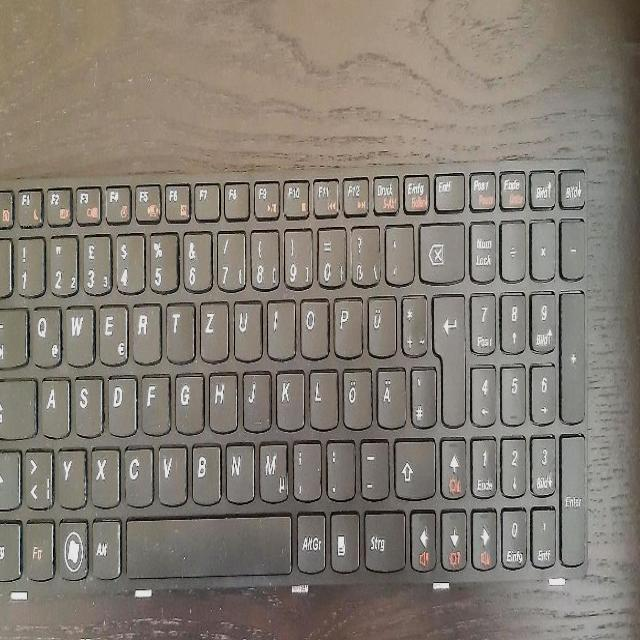0: (315, 222, 345, 285)
1: (15, 232, 43, 294)
2: (47, 230, 77, 292)
3: (80, 229, 110, 291)
4: (114, 227, 144, 289)
5: (147, 227, 177, 289)
6: (181, 226, 211, 288)
7: (215, 226, 245, 288)
8: (248, 225, 278, 287)
9: (281, 223, 311, 285)
a: (39, 372, 68, 434)
accent: (383, 218, 413, 281)
ae: (375, 362, 405, 426)
alt-left: (90, 514, 120, 577)
altgr-right: (295, 507, 325, 570)
b: (190, 438, 220, 501)
c: (122, 441, 152, 503)
caret: (0, 234, 11, 295)
comma: (290, 436, 320, 498)
d: (106, 370, 135, 433)
del: (416, 218, 464, 281)
e: (97, 300, 127, 362)
enter: (430, 287, 464, 423)
f: (139, 369, 168, 430)
g: (172, 368, 202, 430)
h: (206, 367, 236, 429)
hash: (409, 362, 435, 425)
i: (265, 294, 295, 356)
j: (240, 366, 270, 428)
k: (274, 365, 303, 427)
keyboard: (1, 155, 595, 601)
l: (307, 364, 336, 427)
less: (23, 444, 51, 506)
m: (257, 436, 287, 499)
minus: (358, 435, 388, 496)
n: (223, 437, 253, 499)
o: (298, 293, 328, 356)
oe: (340, 363, 370, 426)
p: (332, 292, 362, 355)
plus: (399, 288, 426, 352)
point: (324, 435, 354, 497)
q: (30, 302, 60, 365)
r: (130, 299, 160, 361)
s: (72, 371, 101, 433)
shift-left: (0, 445, 19, 508)
shift-lock: (0, 373, 35, 436)
shift-right: (392, 433, 435, 497)
space: (123, 510, 291, 575)
ss: (349, 220, 379, 283)
strg-left: (0, 516, 20, 578)
strg-right: (362, 506, 406, 570)
t: (164, 298, 194, 359)
tab: (0, 301, 25, 365)
u: (231, 295, 261, 358)
ue: (365, 290, 395, 354)
v: (156, 439, 186, 501)
w: (63, 300, 93, 363)
x: (89, 443, 118, 505)
y: (55, 444, 85, 505)
z: (198, 295, 228, 358)
